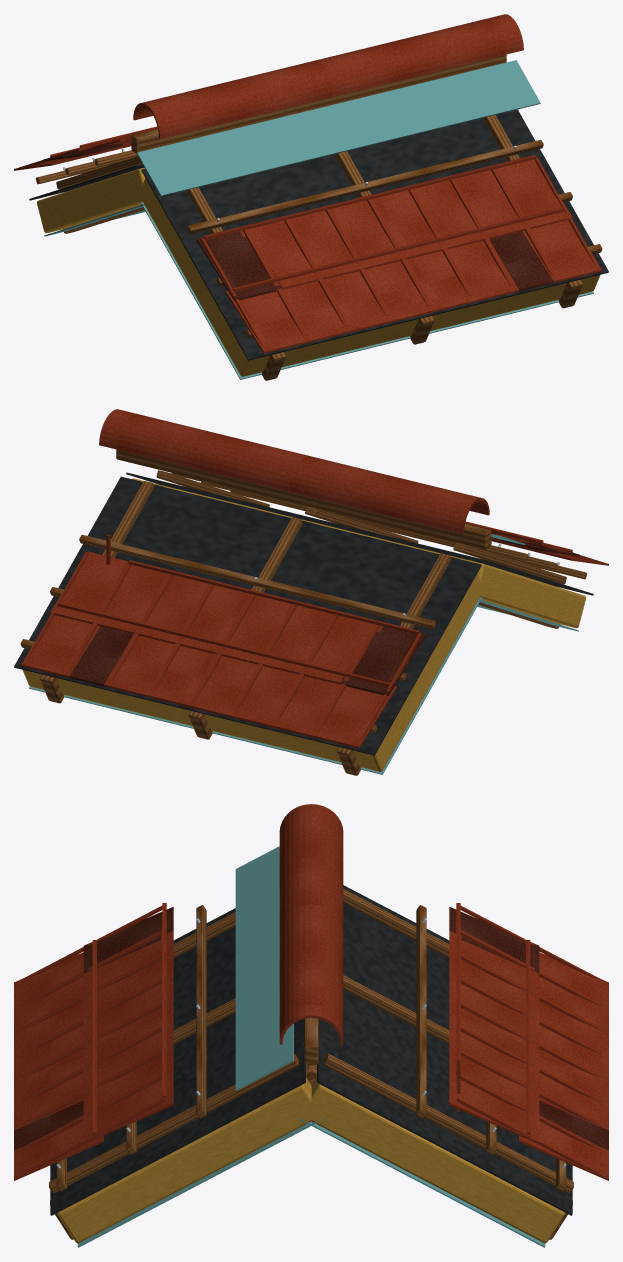
Rendered from modell.glb.
3 renders of one model, top to bottom at view 1: azimuth 30°, elevation 25°; view 2: azimuth 150°, elevation 25°; view 3: azimuth 270°, elevation 25°, orthographic. The views are drawn at different scales.
Visible parts, largest first — view 1: s05-deckziegel_deckung, s05-anschluss_zusatzebene, s05-zusatzebene_zusatzebene, s05-firstziegel_deckung, s05-daemmung_daemmung, s05-lattung_lattung, s05-deckziegel_deckung.001, s05-firstlatte_lattung, s05-luftdichtheit_luftdichtheit, s05-sparren_tragwerk; view 2: s05-deckziegel_deckung, s05-zusatzebene_zusatzebene, s05-firstziegel_deckung, s05-daemmung_daemmung, s05-lattung_lattung, s05-deckziegel_deckung.001, s05-firstlatte_lattung, s05-luftdichtheit_luftdichtheit, s05-sparren_tragwerk; view 3: s05-deckziegel_deckung, s05-zusatzebene_zusatzebene, s05-daemmung_daemmung, s05-lattung_lattung, s05-firstziegel_deckung, s05-anschluss_zusatzebene, s05-deckziegel_deckung.001, s05-luftdichtheit_luftdichtheit, s05-firstlatte_lattung.
Boxes of the visible parts, x1,y1,x2,y2 form: s05-deckziegel_deckung: (14, 126, 601, 353); s05-anschluss_zusatzebene: (137, 60, 540, 196); s05-zusatzebene_zusatzebene: (29, 109, 608, 360); s05-firstziegel_deckung: (133, 14, 523, 138); s05-daemmung_daemmung: (37, 167, 600, 376); s05-lattung_lattung: (36, 115, 602, 338); s05-deckziegel_deckung.001: (43, 143, 553, 301); s05-firstlatte_lattung: (131, 54, 506, 153); s05-luftdichtheit_luftdichtheit: (44, 196, 593, 379); s05-sparren_tragwerk: (64, 207, 582, 380); s05-deckziegel_deckung: (21, 521, 608, 748); s05-zusatzebene_zusatzebene: (14, 472, 593, 755); s05-firstziegel_deckung: (99, 409, 489, 533); s05-daemmung_daemmung: (22, 478, 585, 771); s05-lattung_lattung: (20, 470, 586, 733); s05-deckziegel_deckung.001: (63, 539, 579, 696); s05-firstlatte_lattung: (116, 449, 491, 549); s05-luftdichtheit_luftdichtheit: (29, 596, 578, 774); s05-sparren_tragwerk: (40, 484, 558, 775); s05-deckziegel_deckung: (14, 903, 608, 1180); s05-zusatzebene_zusatzebene: (50, 885, 572, 1215); s05-daemmung_daemmung: (58, 1064, 564, 1243); s05-lattung_lattung: (49, 889, 573, 1193); s05-firstziegel_deckung: (279, 804, 343, 1044); s05-anschluss_zusatzebene: (235, 846, 293, 1090); s05-deckziegel_deckung.001: (14, 906, 608, 1150); s05-luftdichtheit_luftdichtheit: (77, 1118, 545, 1247); s05-firstlatte_lattung: (304, 1018, 318, 1064).
Bounding box in the file's own units: 2.21 × 1.15 × 2.51.
Materials: 7 (5 with a texture image).
